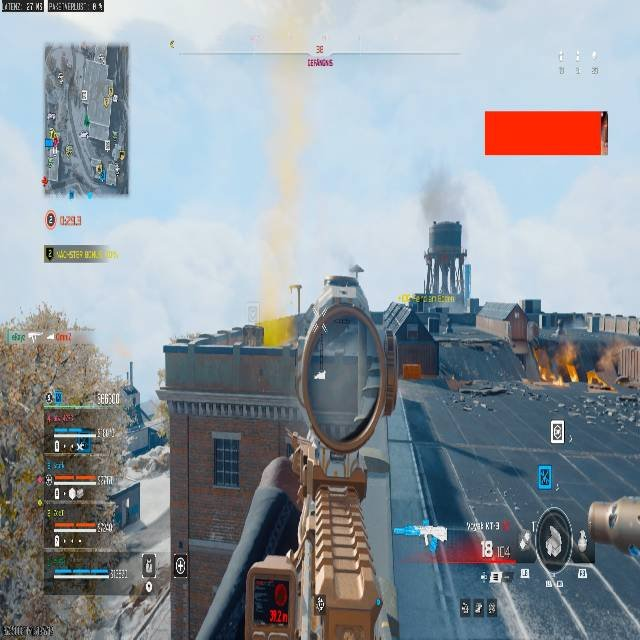player: (445, 314, 454, 333)
